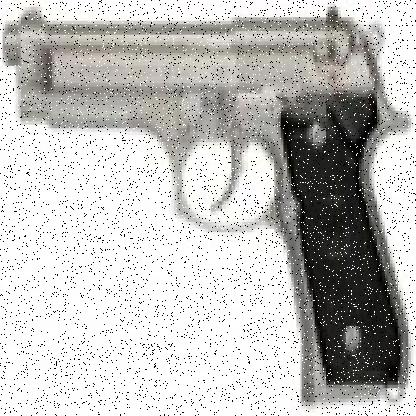pistol: (3, 3, 406, 395)
